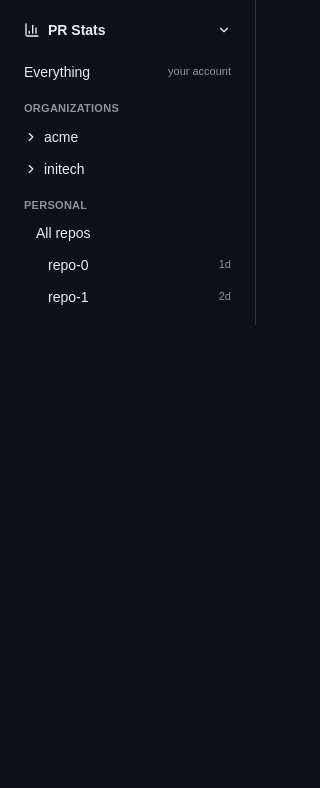
Test: StatsSidebar: the hierarchy › collapses orgs so the whole tree fits on arrival
Expected: the text "Members" is not shown
Click the button "acme". click: point(128, 136)
box: [12,120,243,152]
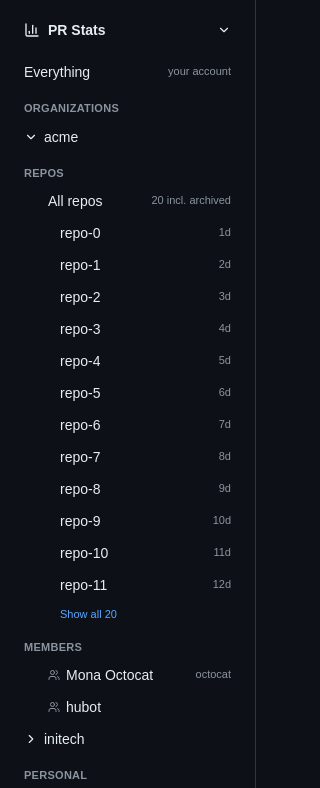
Result: the text "Repos" is shown at [24,166,64,178]
Result: the text "Members" is shown at [24,640,82,652]
